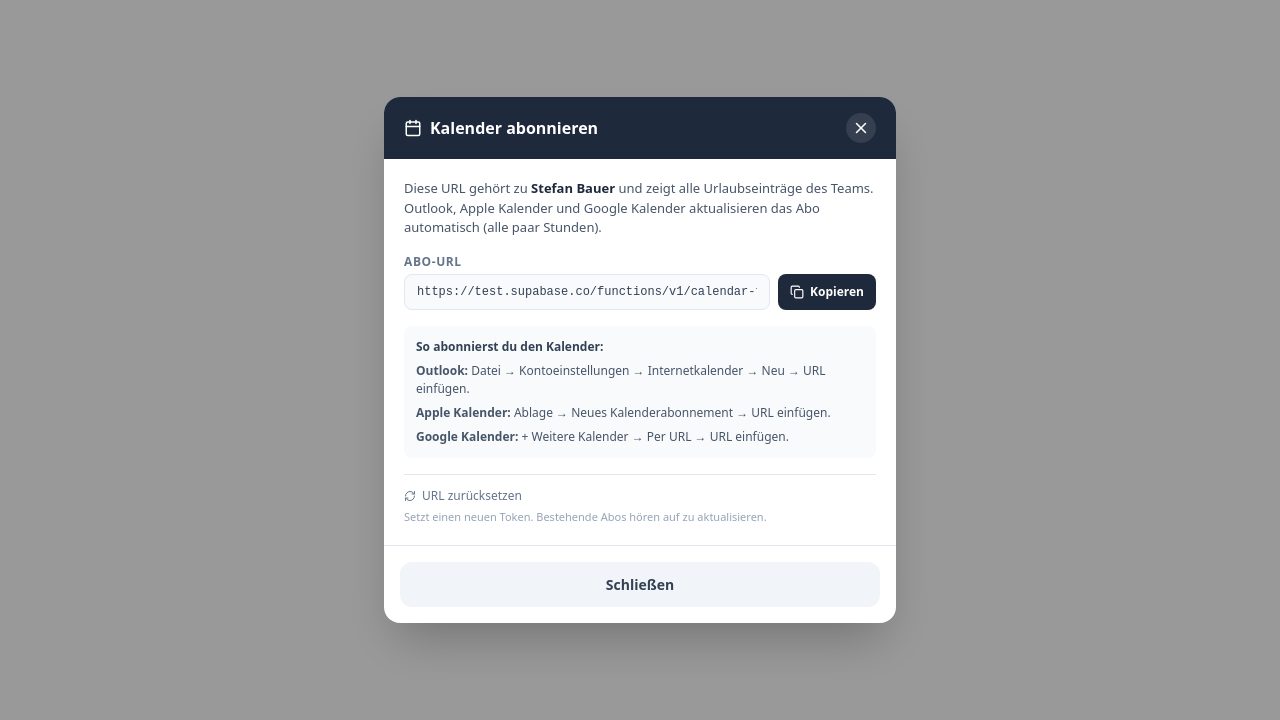
it: CalendarSubscriptionModal › renders the regenerate API error inline
expect the field named "Kalender-Abo-URL" is shown: met, box [404,274,770,310]
Click the button "URL zurücksetzen".
click(463, 496)  # box [404,486,522,504]
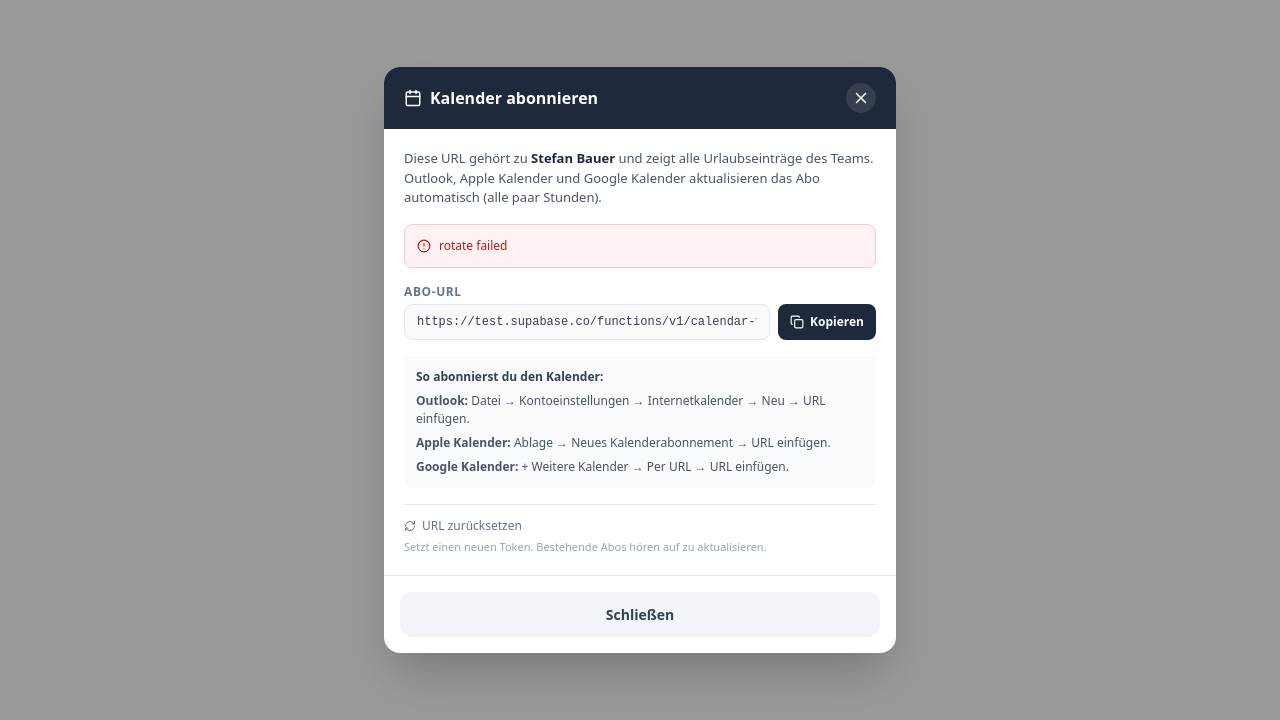
expect the text "rotate failed" is shown: met, box [439,236,508,254]
